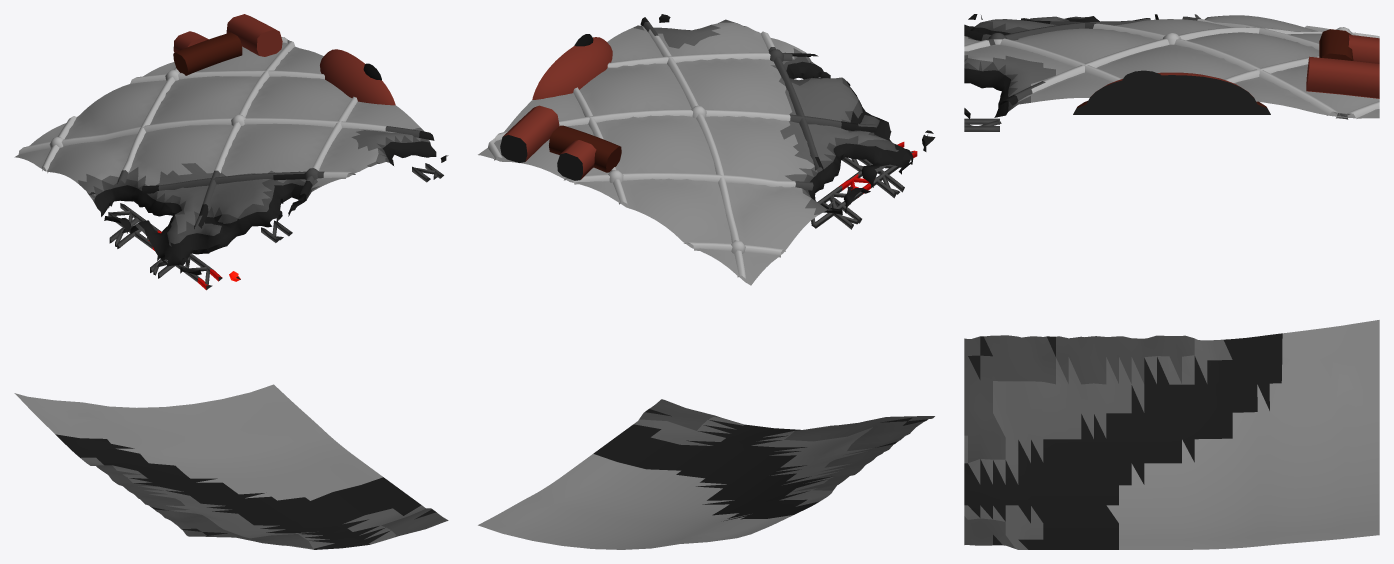
Rendered from zeppelin_87.glb.
3 renders of one model, left to right at view 1: azimuth 30°, elevation 25°; view 2: azimuth 150°, elevation 25°; view 3: azimuth 270°, elevation 25°, orthographic. The views are drawn at different scales.
Visible parts, largest first — view 1: envelope.001, net_ropes.001, pod.001, framework.001, gate_foot_l.001, gate_leg_in_l.001; view 2: envelope.001, net_ropes.001, pod.001, gate_leg_in_l.001, framework.001, gate_foot_l.001, gate_leg_out_l.001, net_knots.001; view 3: envelope.001, net_ropes.001, pod.001, gate_leg_in_l.001, pod_collar.001, gate_foot_l.001, gate_leg_out_l.001.
Part boxes in pixels (x1,y1,x2,y2): envelope.001: (14,42,448,549); net_ropes.001: (18,37,434,266); pod.001: (320,49,395,105); framework.001: (108,163,443,290); gate_foot_l.001: (173,32,242,75); gate_leg_in_l.001: (226,14,282,56); envelope.001: (478,14,935,549); net_ropes.001: (488,17,933,278); pod.001: (532,37,612,99); gate_leg_in_l.001: (500,105,559,162); framework.001: (811,142,917,229); gate_foot_l.001: (549,125,621,172); gate_leg_out_l.001: (557,140,596,180); net_knots.001: (492,49,783,253); envelope.001: (964,15,1379,549); net_ropes.001: (964,14,1379,118); pod.001: (1085,72,1258,113); gate_leg_in_l.001: (1306,56,1379,98); pod_collar.001: (1073,98,1270,114); gate_foot_l.001: (1319,29,1353,60); gate_leg_out_l.001: (1348,34,1379,63).
Size of the model in its own units: 24 by 35.91 by 28.
